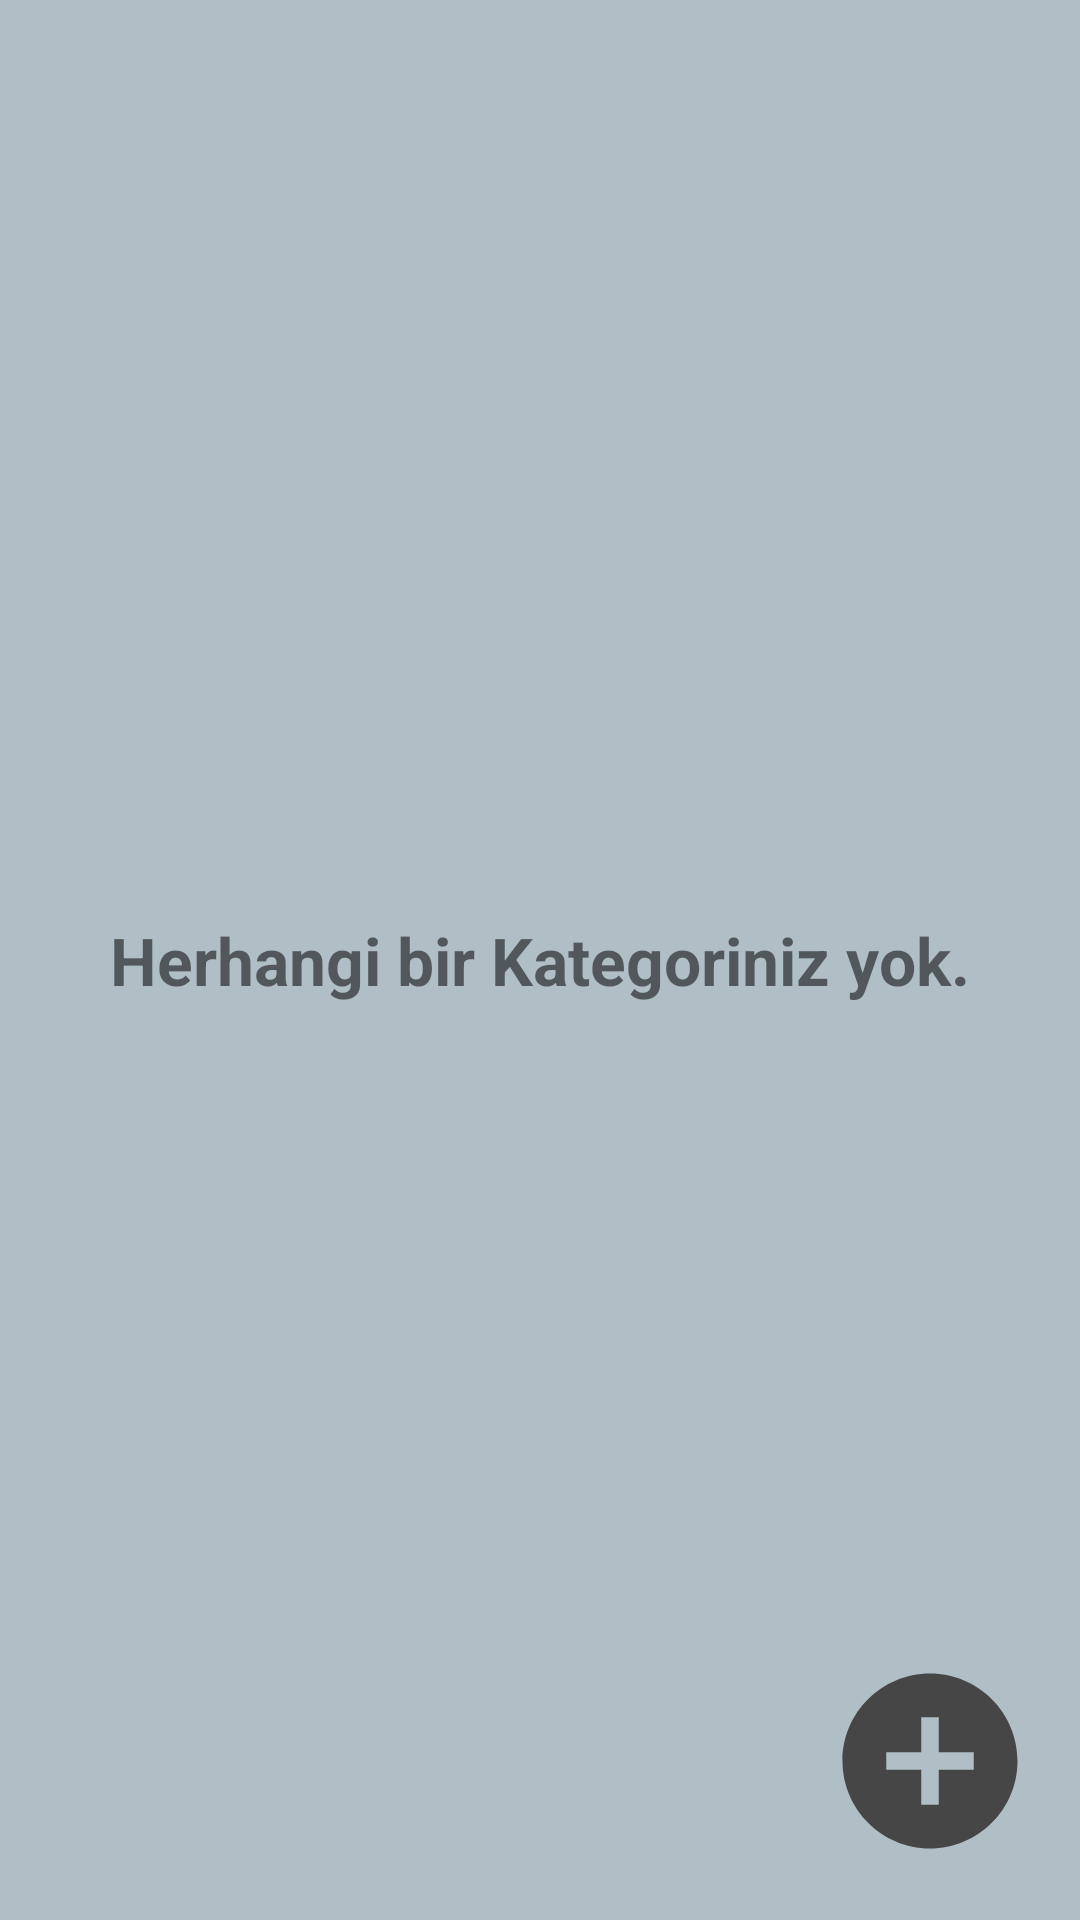

Named icons in this screenshot (1080x1920) and their bounding boxes, (x1, y1, x2, y2):
add: (842, 1673, 1018, 1849)
